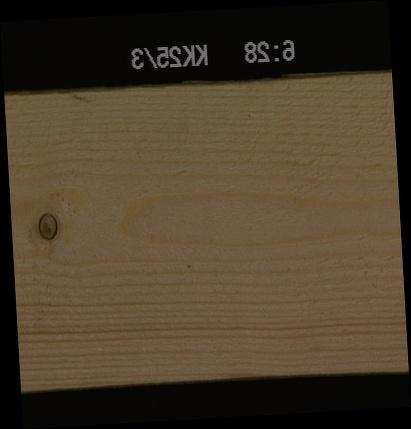dry_knot: (36, 210, 59, 241)
